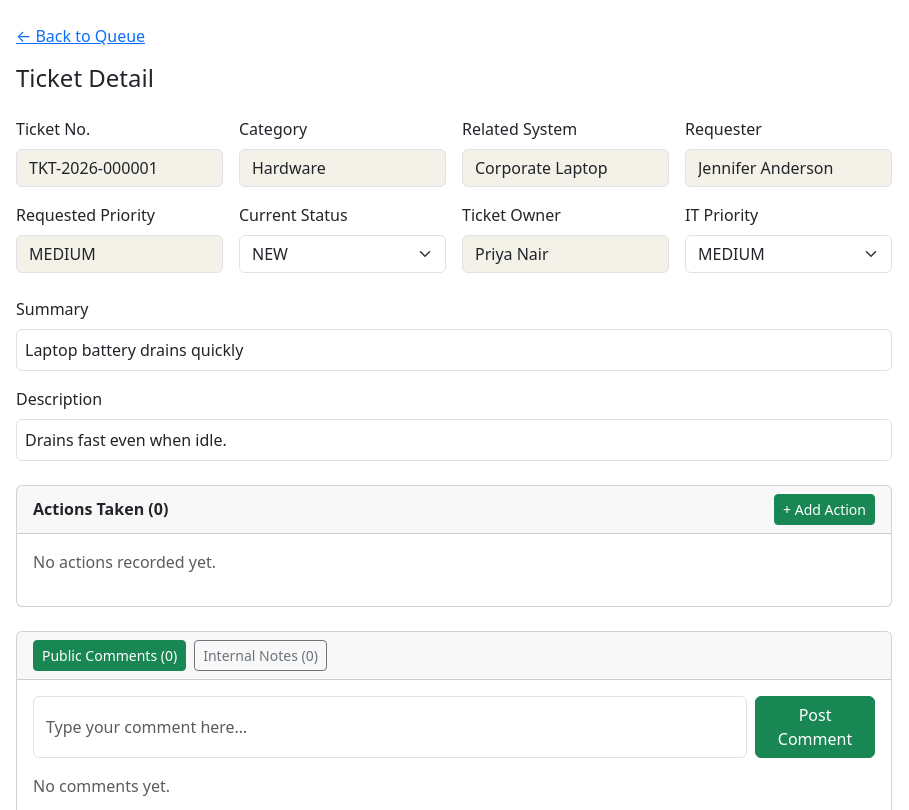
StaffTicketDetail — Actions Taken (Lab 4) › shows a field-level error from the API instead of closing the form
Step 1. Click the button "+ Add Action" → (825, 509), box [774, 494, 875, 525]
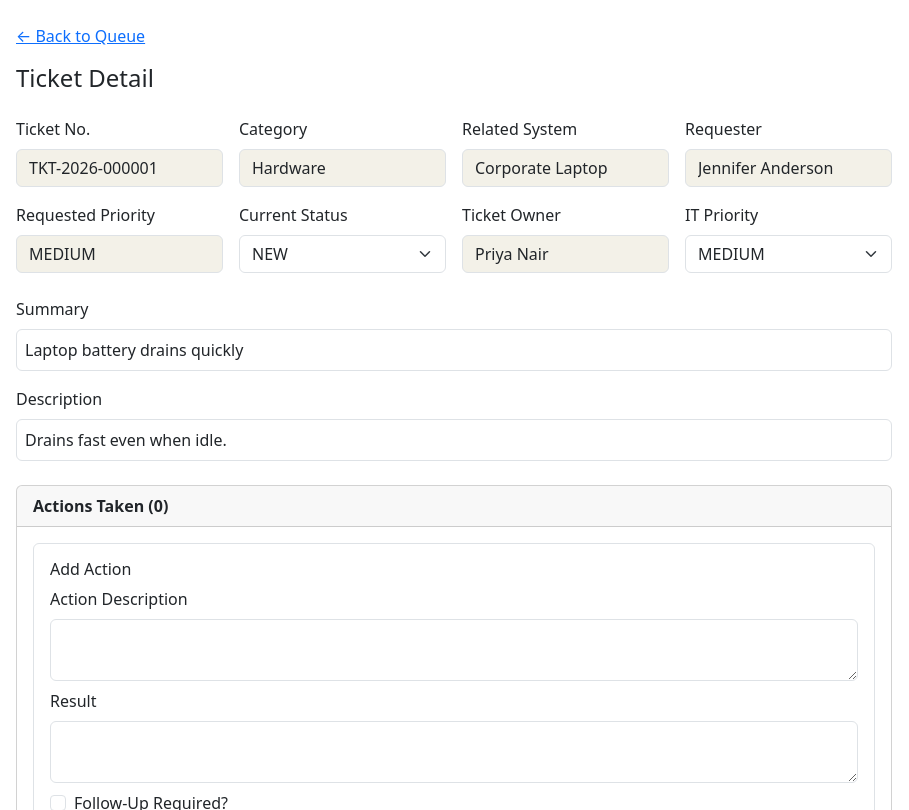
Step 2. Type "x" into the text box labelled "Action Description" → (454, 650), box [50, 619, 858, 681]
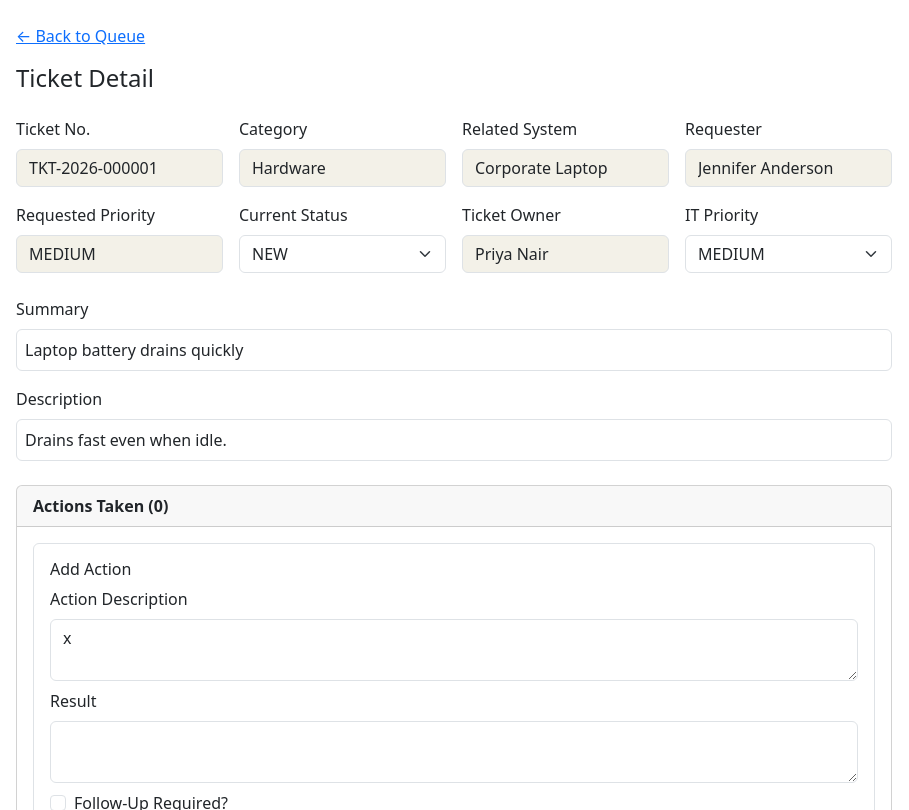
Step 3. Type "y" into the text box labelled "Result" → (454, 752), box [50, 721, 858, 783]
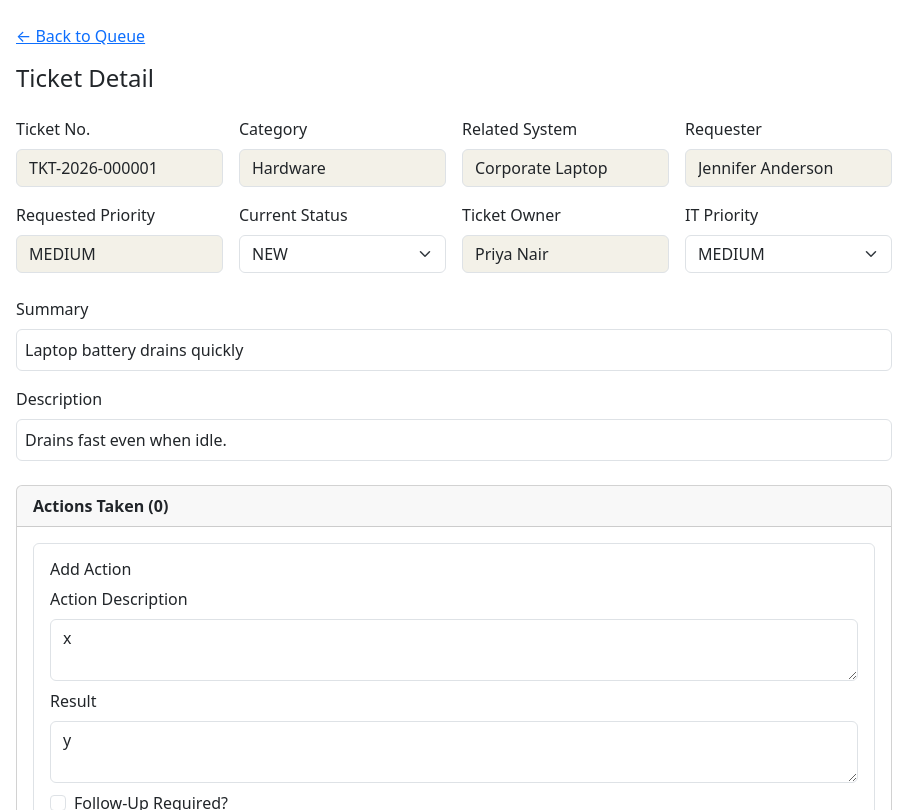
Step 4. Click the checkbox labelled "Follow-Up Required?" → (58, 803), box [50, 795, 66, 809]
(page scrolled)
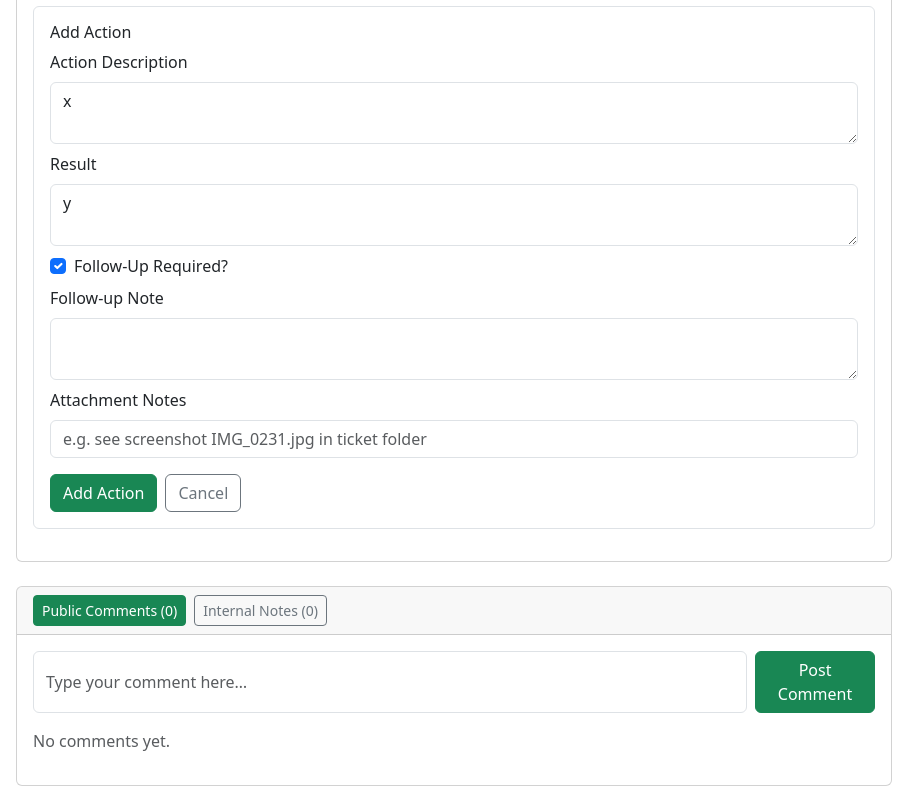
Step 5. Click the button "Add Action" → (104, 493), box [50, 474, 158, 512]
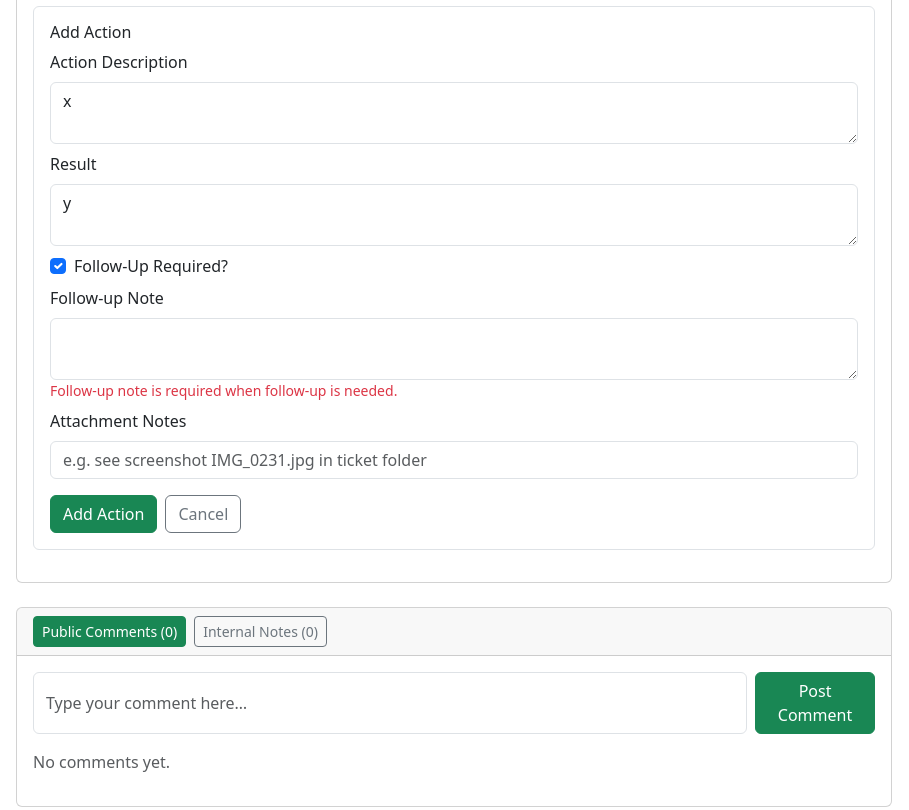
Result: the text "Follow-up note is required when follow-up is needed." is shown at [50, 381, 397, 400]
